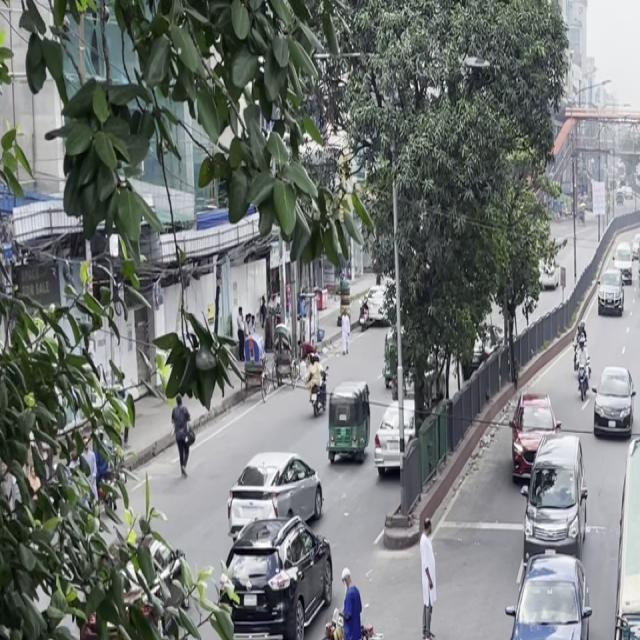bicycle: (311, 608, 396, 640)
bus: (611, 413, 640, 640)
car: (209, 509, 335, 640), (220, 450, 330, 542), (499, 543, 597, 640), (519, 432, 590, 564), (508, 394, 563, 488), (590, 360, 638, 446), (367, 399, 415, 483), (593, 271, 624, 320), (599, 241, 628, 284), (638, 253, 640, 299)
motorbike: (571, 321, 593, 404)
rickshaw: (323, 373, 373, 471)
